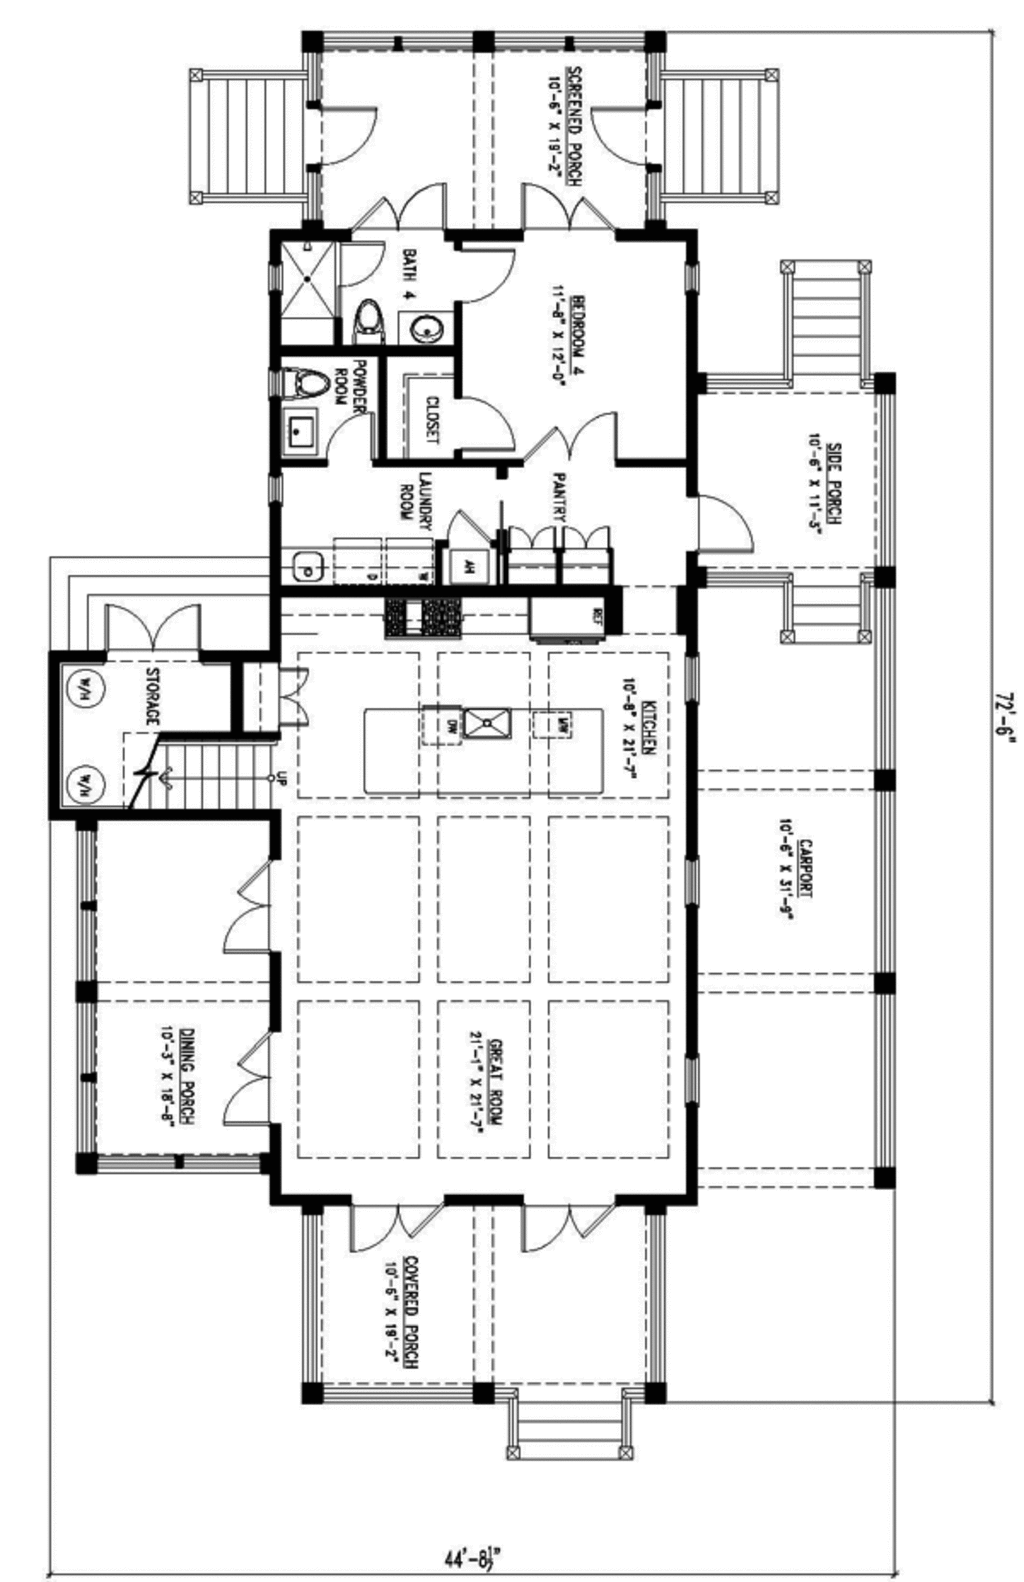door: (95, 601, 206, 662), (515, 178, 613, 246), (348, 182, 455, 243), (520, 407, 626, 468), (209, 1029, 274, 1124), (342, 1199, 447, 1255), (515, 1197, 609, 1258), (586, 95, 662, 168), (313, 95, 381, 172), (220, 867, 274, 963), (686, 492, 765, 556), (453, 392, 535, 450), (450, 238, 515, 306), (323, 410, 382, 464), (338, 240, 392, 294)
kitchen_bar: (359, 701, 613, 804)
large_sink: (352, 295, 391, 348), (279, 370, 340, 399)
small_sink: (396, 306, 453, 351)
stairs: (657, 63, 789, 216), (186, 60, 304, 202), (775, 251, 878, 392), (126, 734, 287, 818), (509, 1372, 625, 1463), (780, 575, 878, 650)
windows: (679, 853, 708, 911), (679, 1050, 709, 1106)
